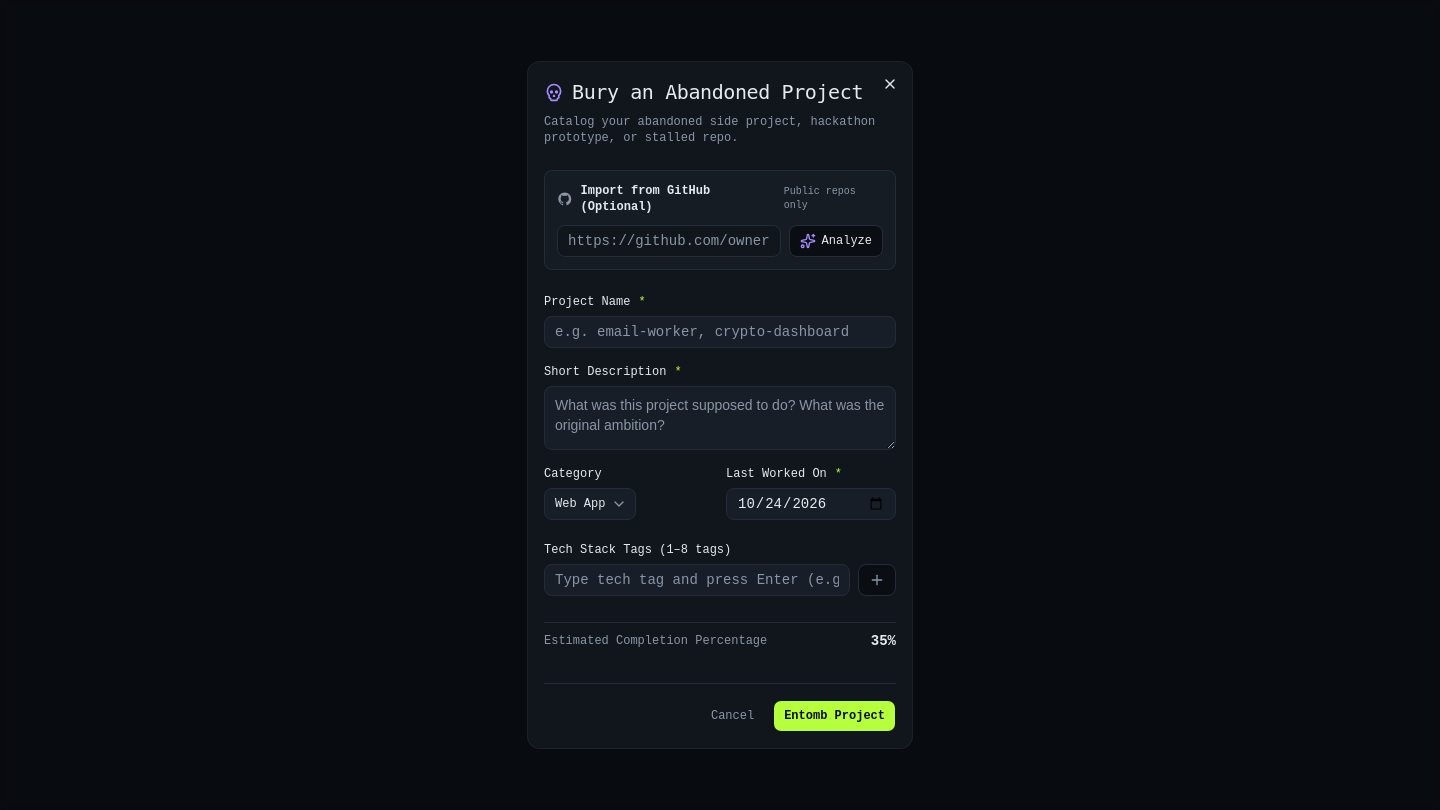
it: BuryProjectDialog - GitHub Import › shows inline validation error if URL is empty or invalid
Click the button "Analyze" at (836, 241), box [789,225,883,257]
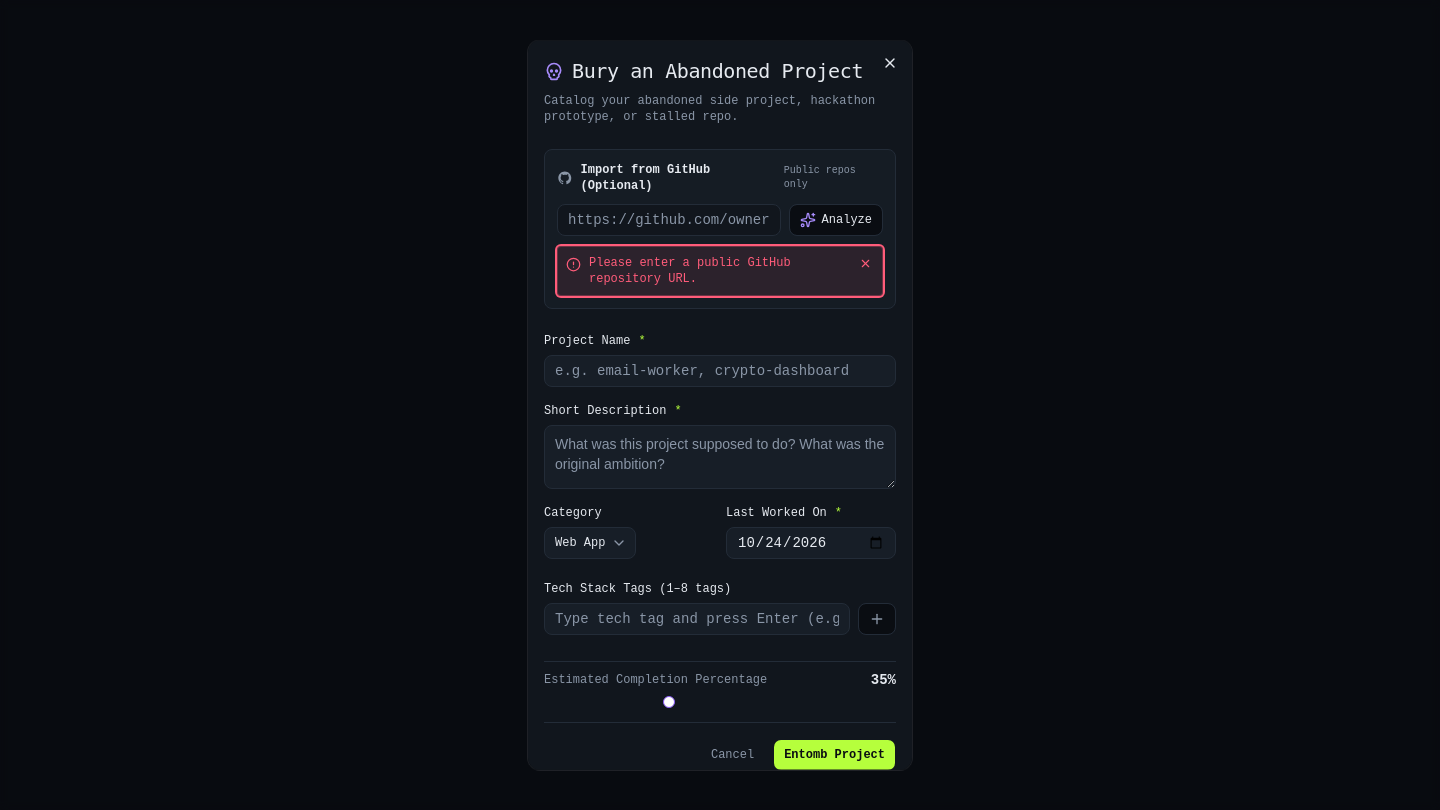
Expected: the text "Please enter a public GitHub repository URL." is shown, [589,256,791,286]
Type "https://gitlab.com/owner/repo" into the field with placeholder "https://github.com/owner/repo" at (669, 220), box [557,204,781,236]
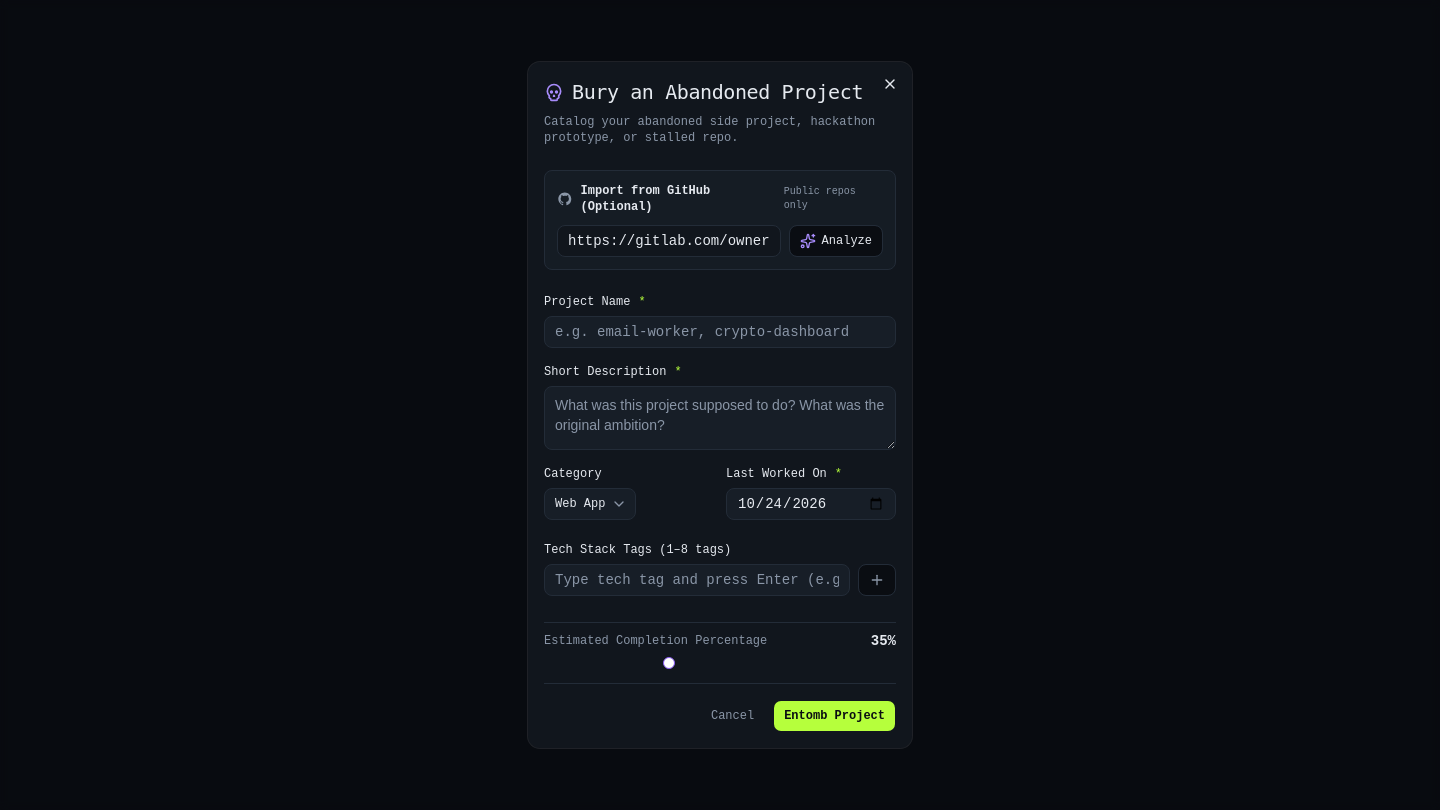
Click the button "Analyze" at (836, 241), box [789,225,883,257]
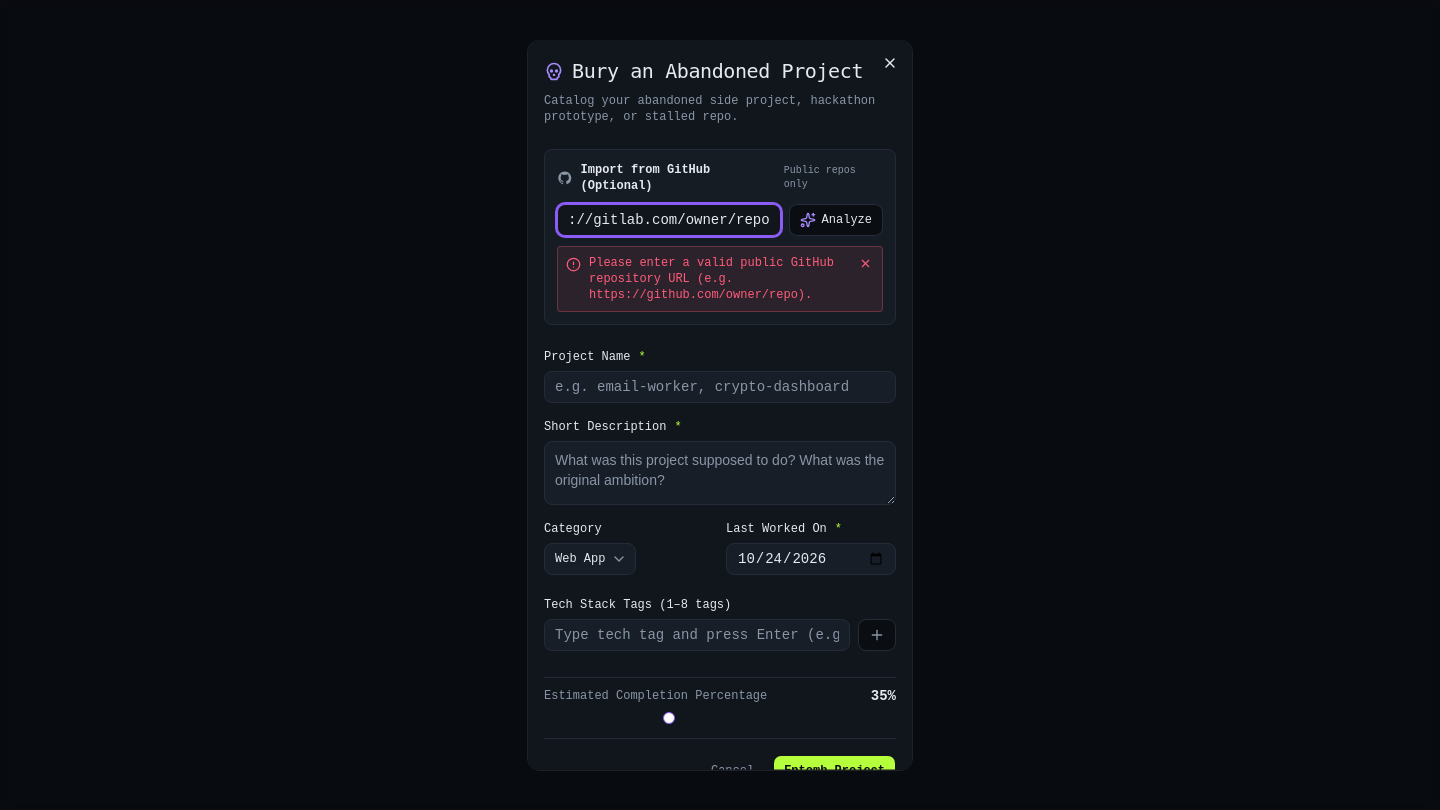
Expected: the text "Please enter a valid public GitHub repository URL" is shown, [589,256,834,302]
